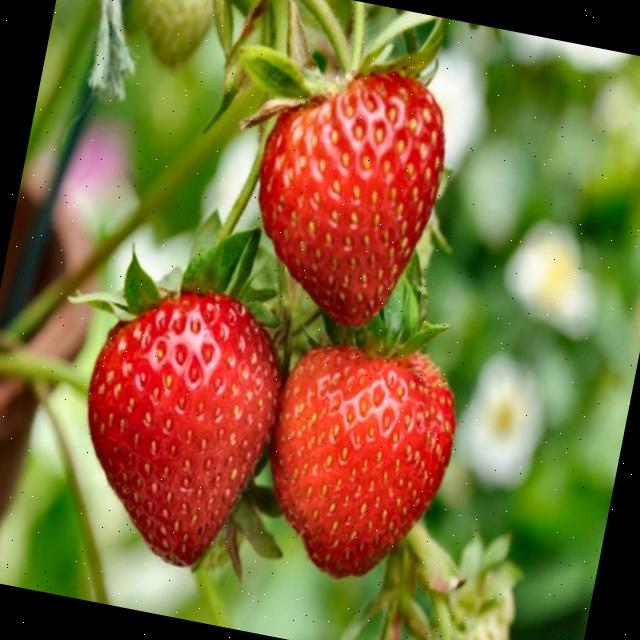strawberry: (89, 293, 281, 566), (259, 72, 445, 326), (271, 345, 456, 578)
